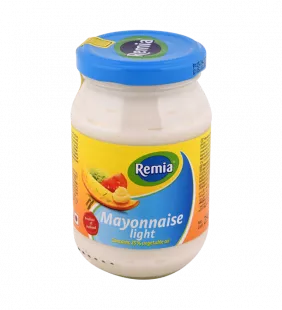REMIA: (60, 20, 220, 284)
